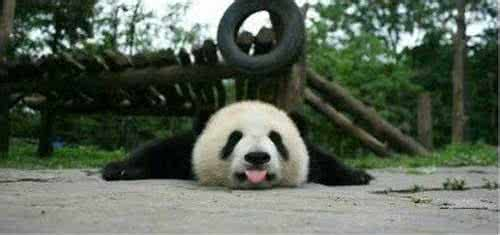panda: (99, 94, 380, 193)
